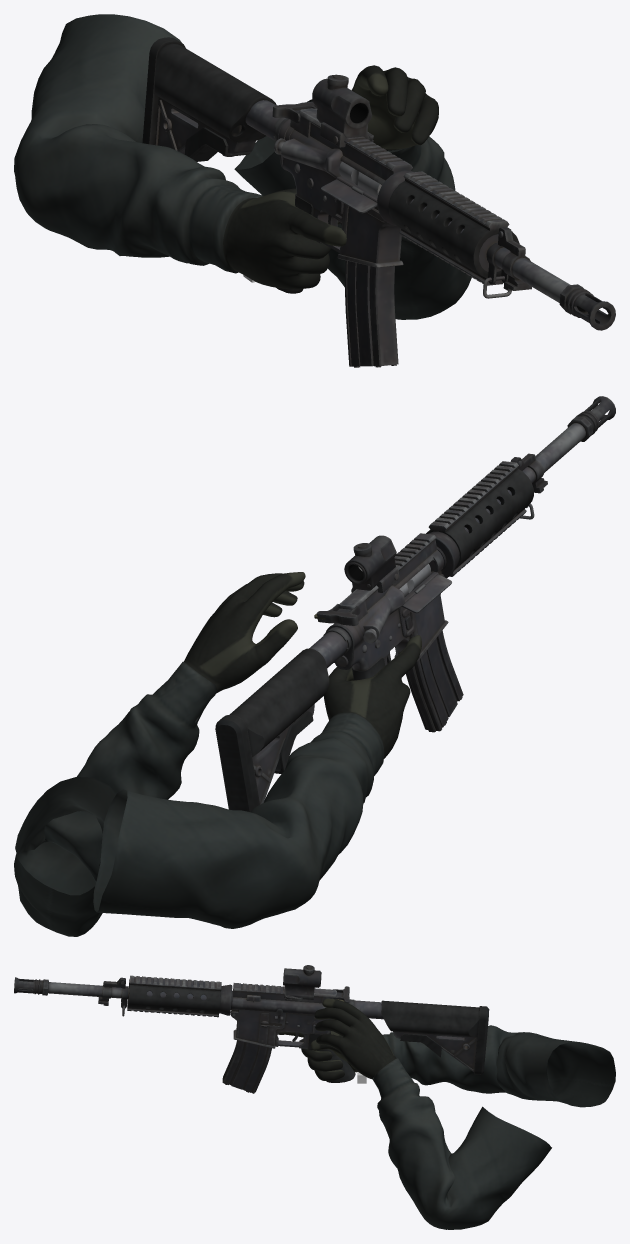
The model's file is gun_000098.obj.
3 views of the same model, one above another, from view 1: azimuth 30°, elevation 25°; view 2: azimuth 150°, elevation 25°; view 3: azimuth 270°, elevation 25° (orthographic). The views are drawn at different scales.
Parts seen in each view (by area): view 1: armmesh_arms_0, base_carbine_0, clip_carbine_0, scope_carbine_0, lid_carbine_0, bolt_carbine_0, handle_carbine_0; view 2: armmesh_arms_0, base_carbine_0, clip_carbine_0, scope_carbine_0, lid_carbine_0; view 3: armmesh_arms_0, base_carbine_0, clip_carbine_0, scope_carbine_0.
Boxes of the visible parts, x1,y1,x2,y2 form: armmesh_arms_0: [14, 14, 471, 319]; base_carbine_0: [142, 37, 615, 330]; clip_carbine_0: [345, 260, 398, 367]; scope_carbine_0: [312, 74, 373, 147]; lid_carbine_0: [321, 179, 377, 213]; bolt_carbine_0: [339, 161, 381, 197]; handle_carbine_0: [272, 101, 317, 123]; armmesh_arms_0: [14, 572, 421, 936]; base_carbine_0: [215, 396, 615, 811]; clip_carbine_0: [406, 630, 463, 732]; scope_carbine_0: [344, 535, 399, 592]; lid_carbine_0: [402, 574, 451, 613]; armmesh_arms_0: [278, 998, 615, 1229]; base_carbine_0: [14, 975, 489, 1082]; clip_carbine_0: [222, 1040, 271, 1093]; scope_carbine_0: [283, 965, 321, 1001].
Size of the model in its own units: 51.72 by 49.04 by 128.
